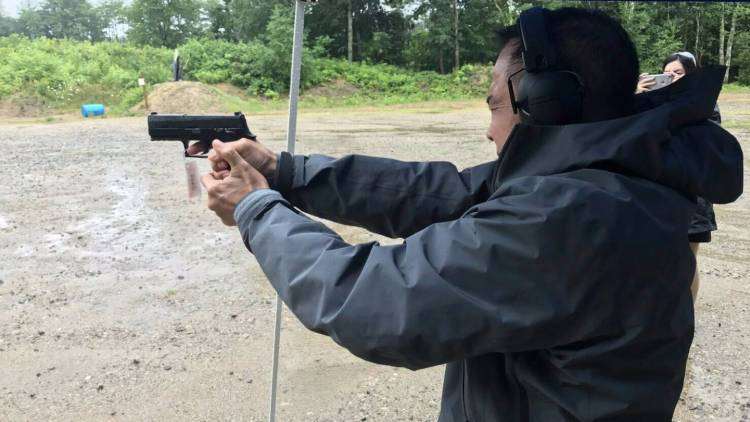gun: (138, 106, 264, 167)
